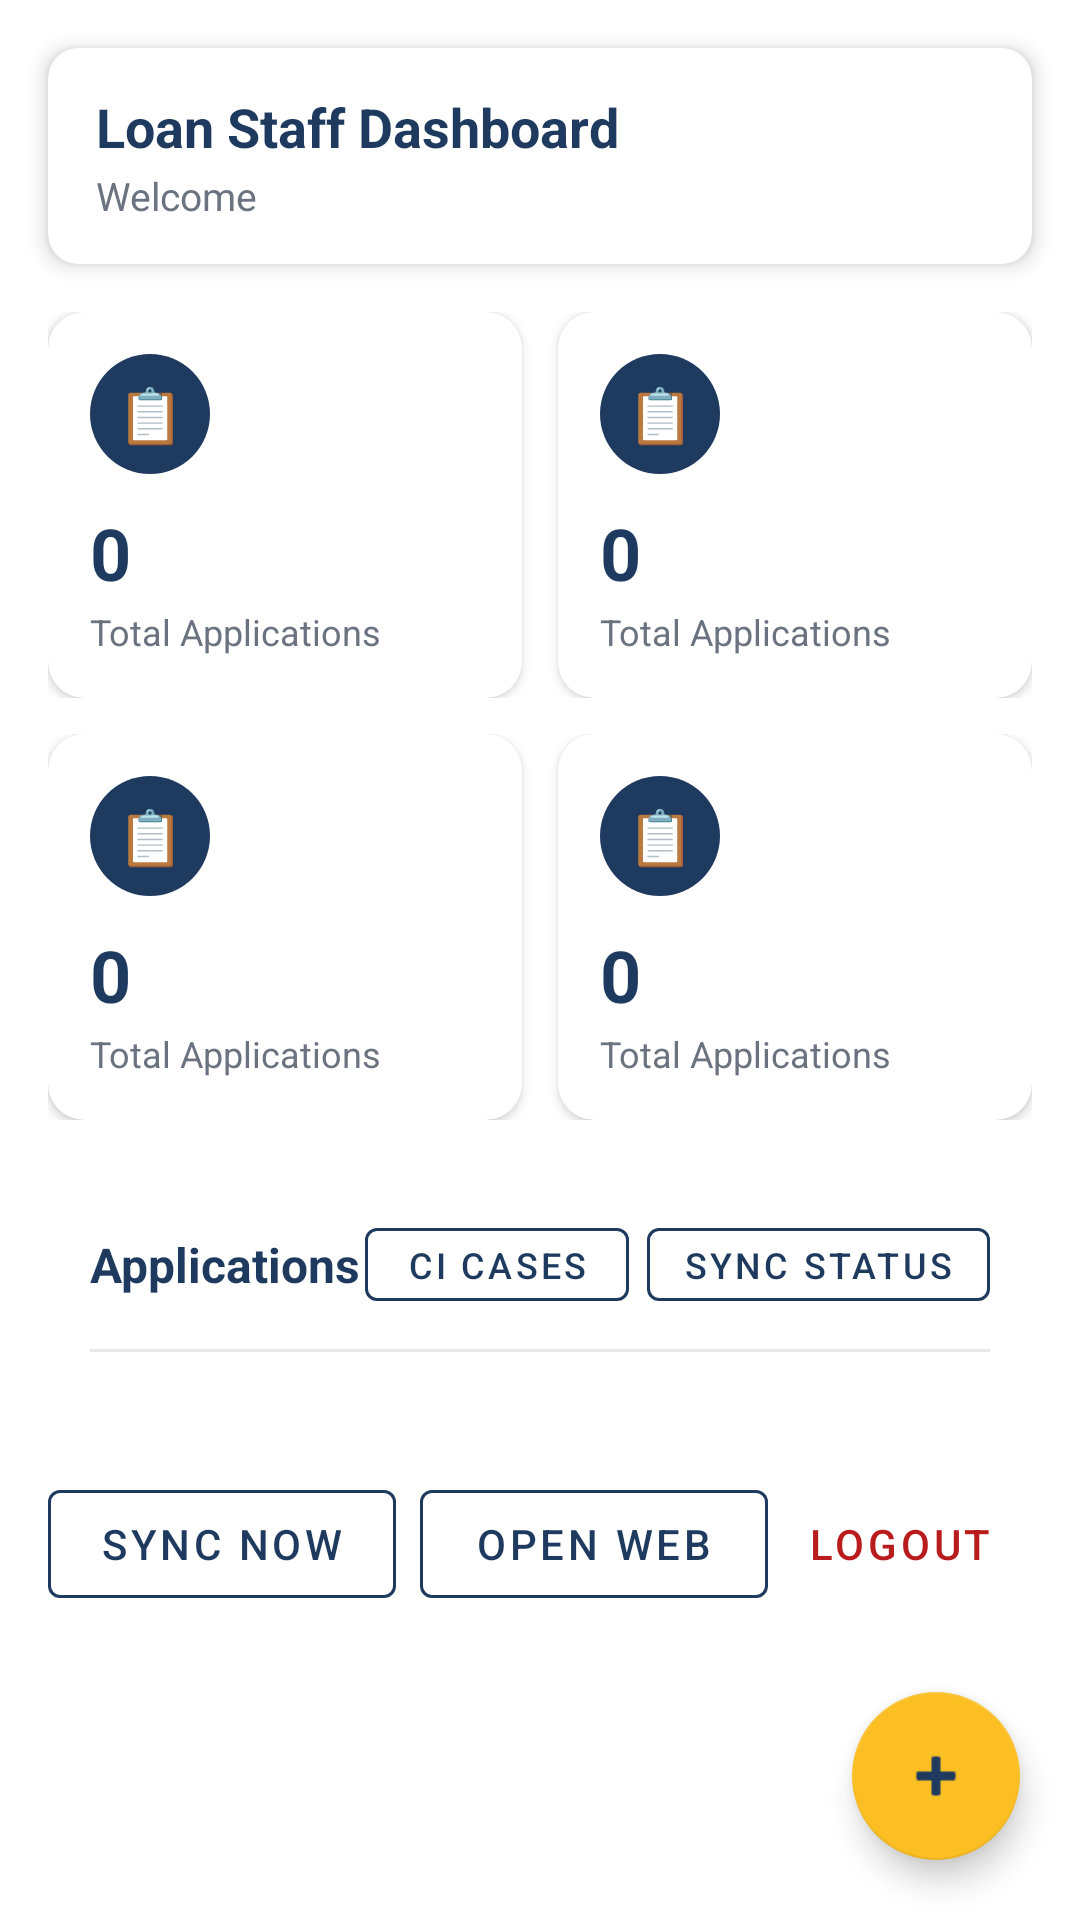

Icons on this 1080*1920 Android screen, each with its box as (x1, y1, x2, y2):
New loan: (852, 1692, 1020, 1860)
